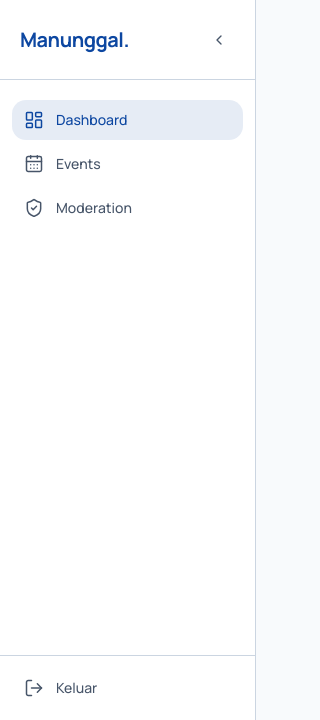
Scenario: Dashboard Sidebar › collapses while keeping navigation icons visible
Check: the link "Dashboard" is shown, box [12, 100, 243, 140]
Click the button named "Kecilkan sidebar" at [219, 40], box [203, 24, 235, 56]
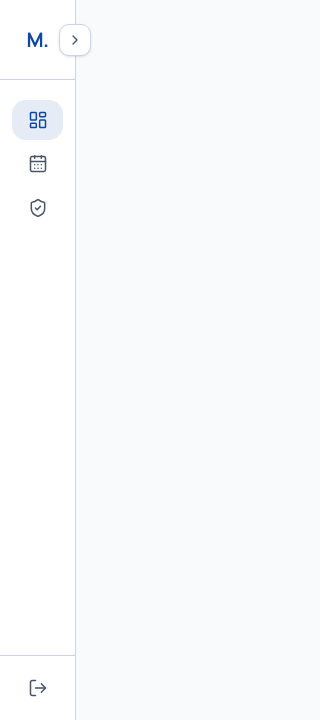
Check: the link named "Dashboard" is shown, box [12, 100, 63, 140]
Check: the link "Dashboard" is gone
Check: the button named "Perbesar sidebar" is shown, box [59, 24, 91, 56]
